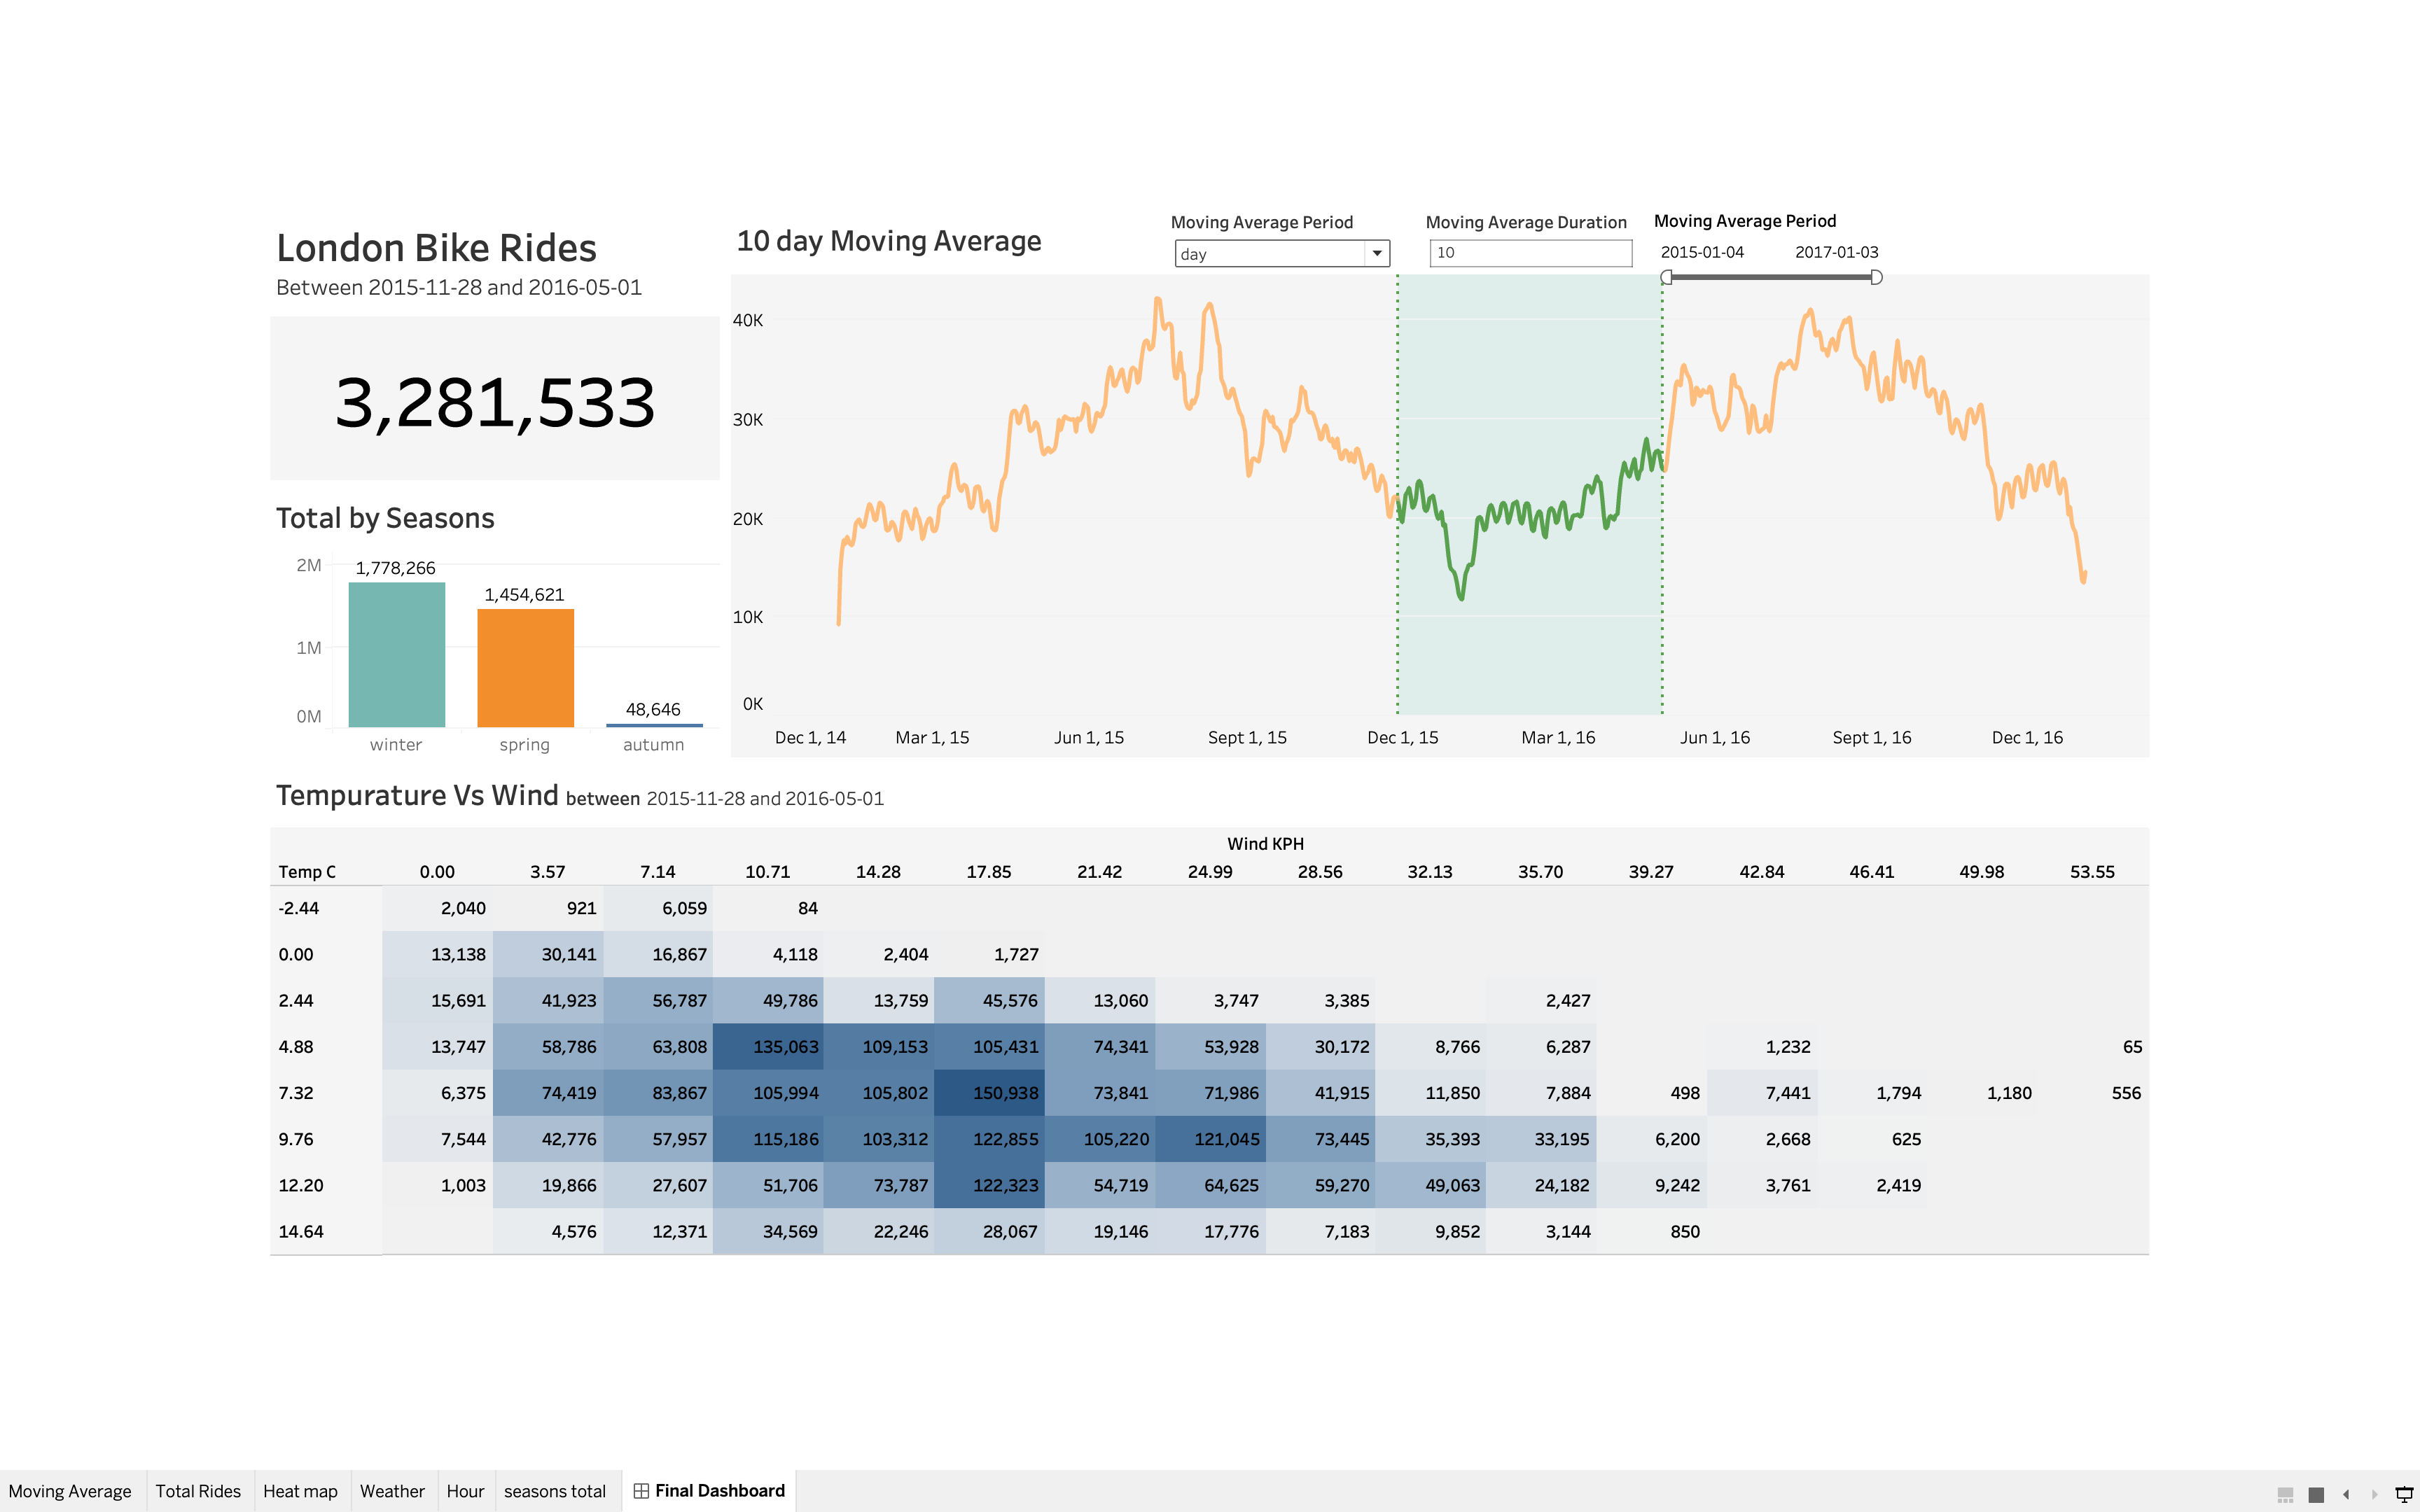

The dashboard page shown, as its layout file describes it:
{"tool":"tableau","page":{"name":"Final Dashboard","canvas":[1366,768],"ordinal":0},"visuals":[{"type":"worksheet","title":"Total Rides","mark":"Automatic","box":[8,8,329,198]},{"type":"worksheet","title":"Moving Average","mark":"Line","rows":["Calculation1"],"cols":["Calculation_1195072425775435778"],"box":[337,8,1021,396]},{"type":"filter","title":"Moving Average","param":"[federated.0wmq2331d6l9u111sf4td0c3rhkm].[none:Calculation_1195072425775435778:q","box":[1000,8,168,62]},{"type":"parameter","param":"[Parameters].[Parameter 1]","box":[655,9,160,44]},{"type":"parameter","param":"[Parameters].[Parameter 2]","box":[837,9,151,44]},{"type":"worksheet","title":"seasons total","mark":"Automatic","rows":["count"],"cols":["season"],"box":[8,206,329,198]},{"type":"worksheet","title":"Heat map","mark":"Square","rows":["temp real C (bin)"],"cols":["Wind Speed Kph (bin)"],"box":[8,404,1350,356]}]}

Visuals, with their boxes on the page's 1366x768 design canvas (x1, y1, x2, y2). These are canvas units, not pixel positions in the 2420x1512 screenshot, which may show the page scaled, cropped or inside an application window:
"Total Rides" worksheet: {"x1": 8, "y1": 8, "x2": 337, "y2": 206}
"Moving Average" worksheet (Line marks): {"x1": 337, "y1": 8, "x2": 1358, "y2": 404}
"Moving Average" filter: {"x1": 1000, "y1": 8, "x2": 1168, "y2": 70}
parameter: {"x1": 655, "y1": 9, "x2": 815, "y2": 53}
parameter: {"x1": 837, "y1": 9, "x2": 988, "y2": 53}
"seasons total" worksheet: {"x1": 8, "y1": 206, "x2": 337, "y2": 404}
"Heat map" worksheet (Square marks): {"x1": 8, "y1": 404, "x2": 1358, "y2": 760}
